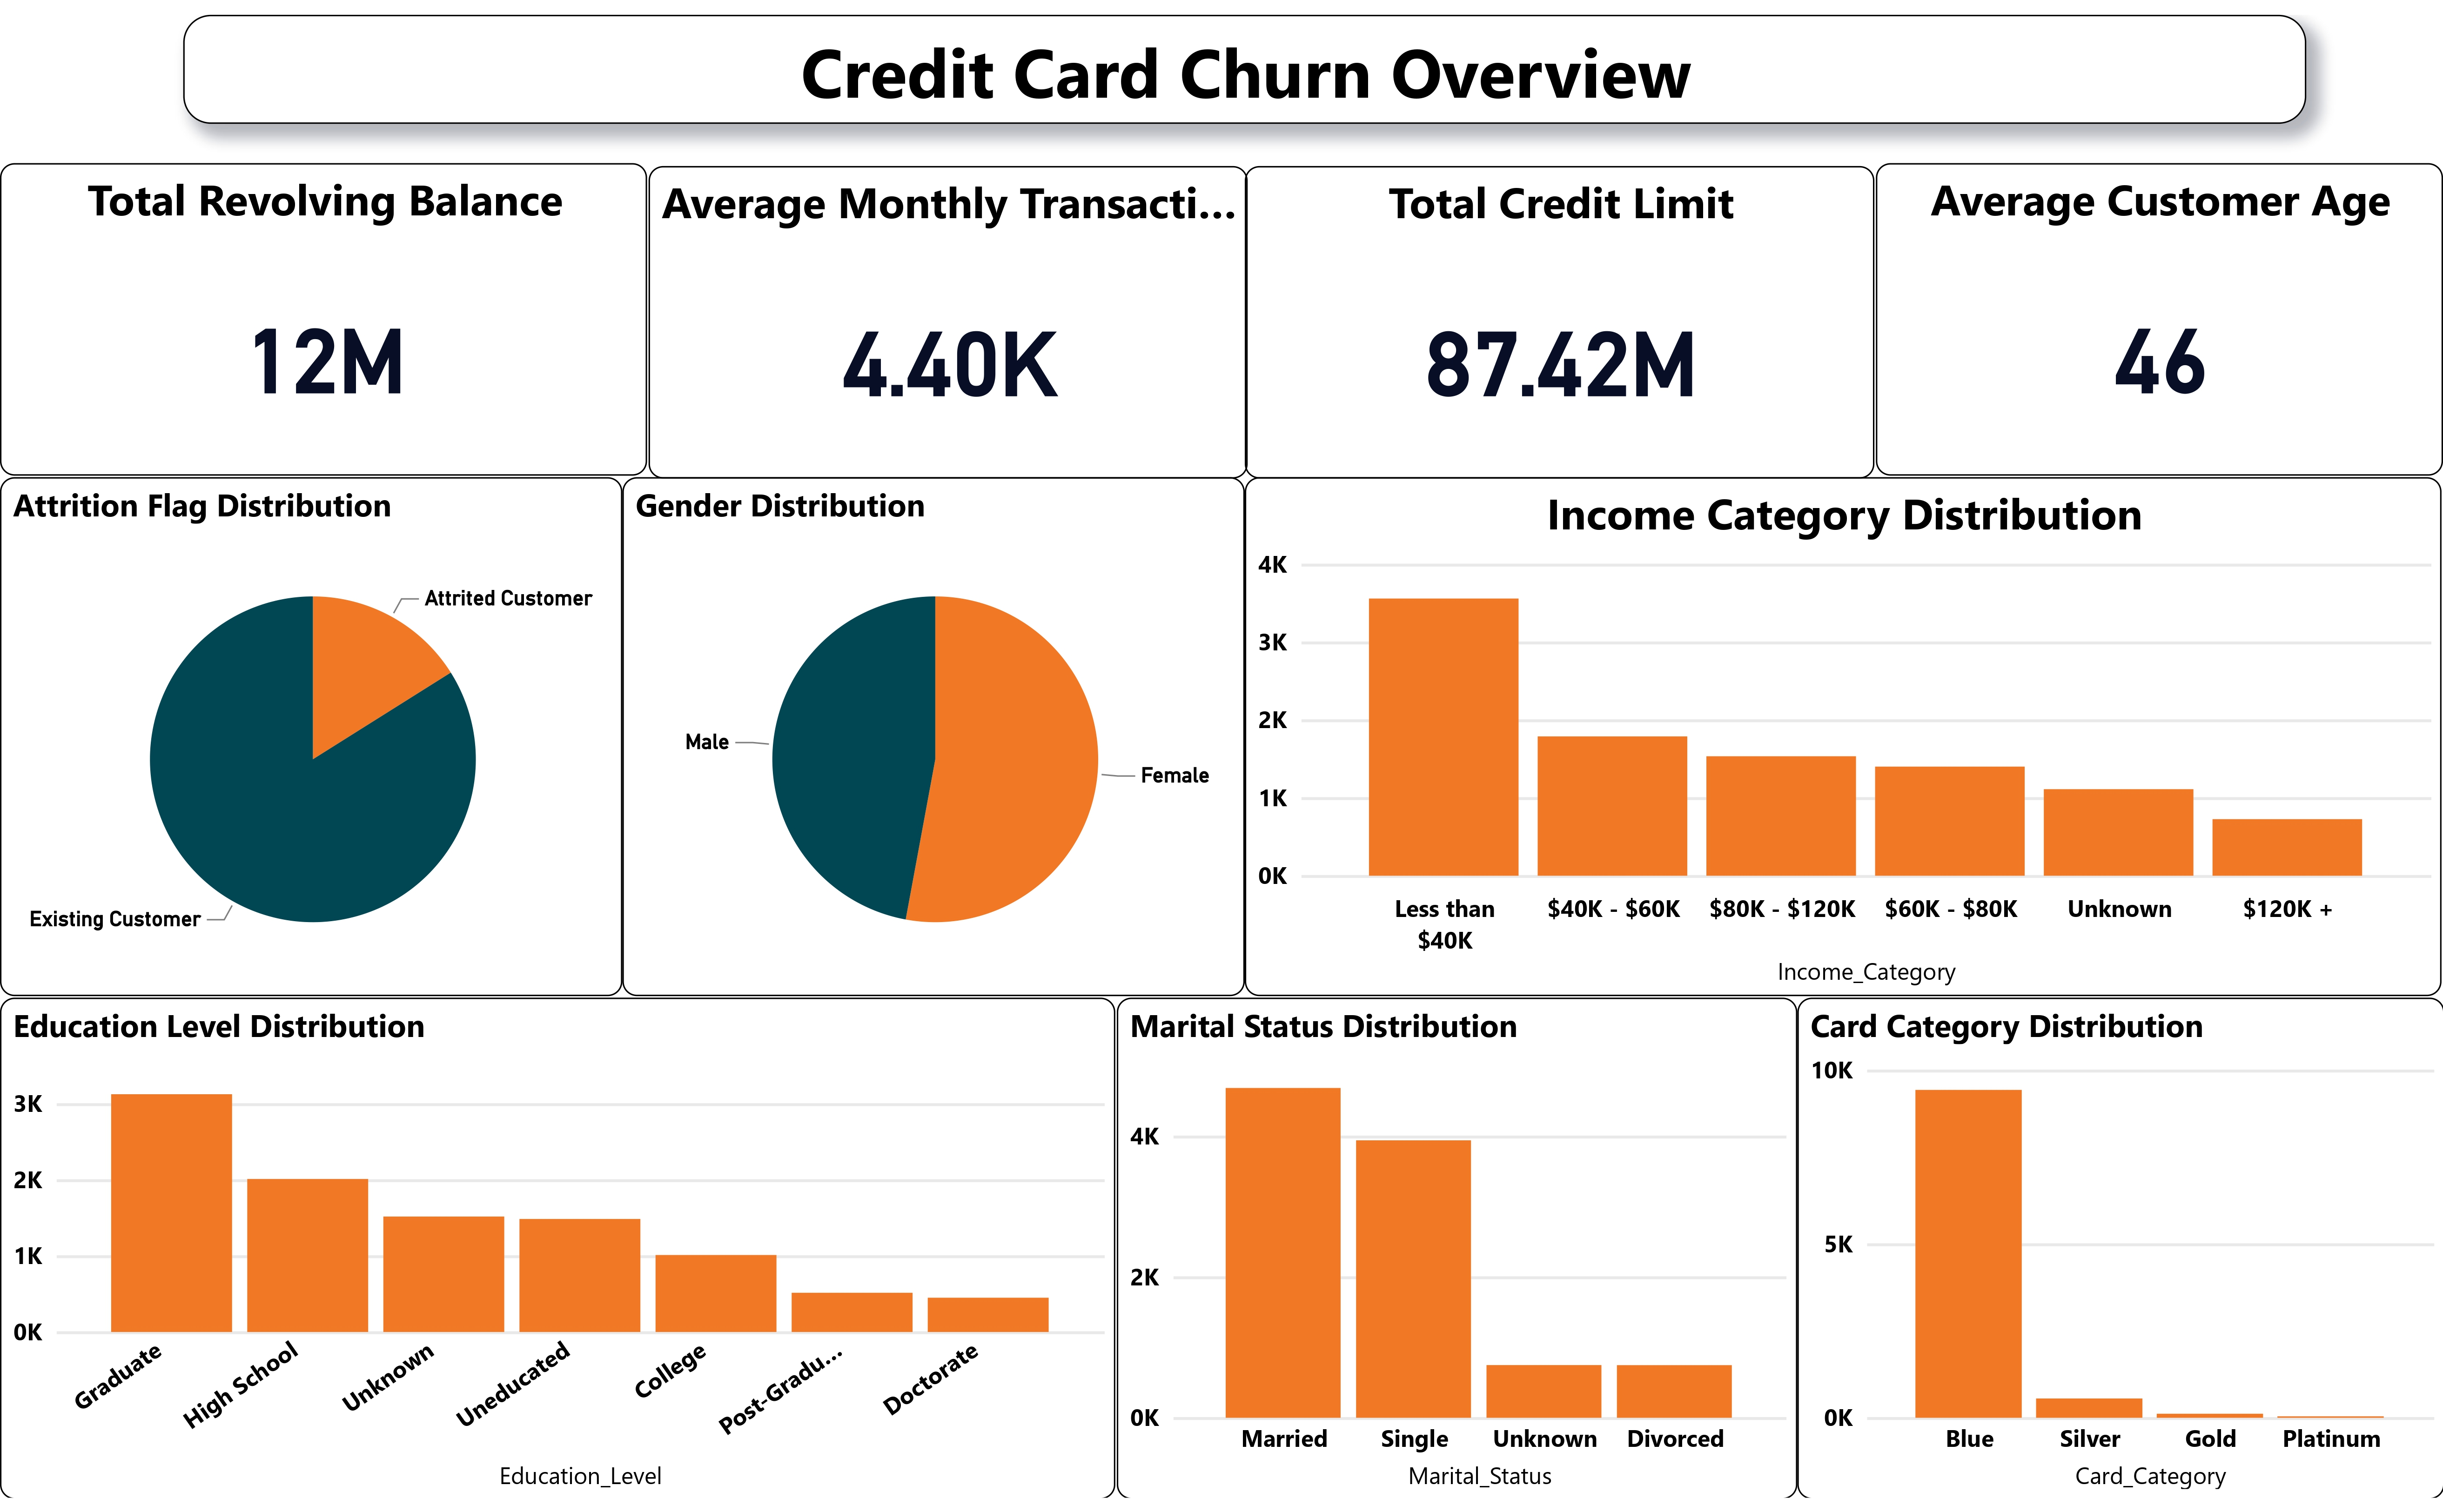

This screenshot's page, from the dashboard's own definition file:
{"tool":"powerbi","page":{"name":"Dashboard_one","canvas":[1680,1020],"ordinal":0},"visuals":[{"type":"pieChart","title":"Attrition Flag Distribution","fields":{"Series":["BankChurners.Attrition_Flag"],"Y":["CountNonNull(BankChurners.Attrition_Flag)"]},"box":[0,318.3,428.3,356.7],"z":0},{"type":"pieChart","title":"Gender Distribution","fields":{"Y":["CountNonNull(BankChurners.Gender)"],"Category":["BankChurners.Gender"],"Series":["BankChurners.Gender"]},"box":[428.3,318.3,428.3,356.7],"z":1000},{"type":"clusteredColumnChart","title":"Education Level Distribution","fields":{"Category":["BankChurners.Education_Level"],"Y":["CountNonNull(BankChurners.Education_Level)"]},"box":[0,675,766.7,345],"z":2000},{"type":"clusteredColumnChart","title":"Marital Status Distribution","fields":{"Category":["BankChurners.Marital_Status"],"Y":["CountNonNull(BankChurners.Marital_Status)"]},"box":[767.5,675,467.5,345],"z":3000},{"type":"clusteredColumnChart","title":"Income Category Distribution","fields":{"Category":["BankChurners.Income_Category"],"Y":["CountNonNull(BankChurners.Income_Category)"]},"box":[856.7,318.3,823.3,356.7],"z":4000},{"type":"clusteredColumnChart","title":"Card Category Distribution","fields":{"Category":["BankChurners.Card_Category"],"Y":["CountNonNull(BankChurners.Card_Category)"]},"box":[1235,675,445,345],"z":5000},{"type":"card","title":"Average Customer Age","fields":{"Values":["BankChurners.avg_customer_age"]},"box":[1290,102.5,390,215],"z":6000},{"type":"card","title":"Total Credit Limit","fields":{"Values":["Sum(BankChurners.Credit_Limit)"]},"box":[856.7,103.3,433.3,215],"z":7000},{"type":"card","title":"Average Monthly Transactions","fields":{"Values":["BankChurners.avg_monthly_tran"]},"box":[445,103.3,411.7,215],"z":8000},{"type":"card","title":"Total Revolving Balance","fields":{"Values":["Sum(BankChurners.Total_Revolving_Bal)"]},"box":[0,101.7,445,215],"z":9000},{"type":"textbox","box":[256.7,308.3,143.3,91.7],"z":10000},{"type":"textbox","title":"Credit Card Churn Overview","box":[125,0,1460,75],"z":10001}]}

Visuals, with their boxes in screenshot pixels (x1, y1, x2, y2), scaled from the page's 1680x1020 canvas onto the 2443x1512 screenshot:
"Attrition Flag Distribution" pieChart: (left=0, top=472, right=623, bottom=1001)
"Gender Distribution" pieChart: (left=623, top=472, right=1246, bottom=1001)
"Education Level Distribution" clusteredColumnChart: (left=0, top=1001, right=1115, bottom=1512)
"Marital Status Distribution" clusteredColumnChart: (left=1116, top=1001, right=1796, bottom=1512)
"Income Category Distribution" clusteredColumnChart: (left=1246, top=472, right=2443, bottom=1001)
"Card Category Distribution" clusteredColumnChart: (left=1796, top=1001, right=2443, bottom=1512)
"Average Customer Age" card: (left=1876, top=152, right=2443, bottom=471)
"Total Credit Limit" card: (left=1246, top=153, right=1876, bottom=472)
"Average Monthly Transactions" card: (left=647, top=153, right=1246, bottom=472)
"Total Revolving Balance" card: (left=0, top=151, right=647, bottom=469)
textbox: (left=373, top=457, right=582, bottom=593)
"Credit Card Churn Overview" textbox: (left=182, top=0, right=2305, bottom=111)
